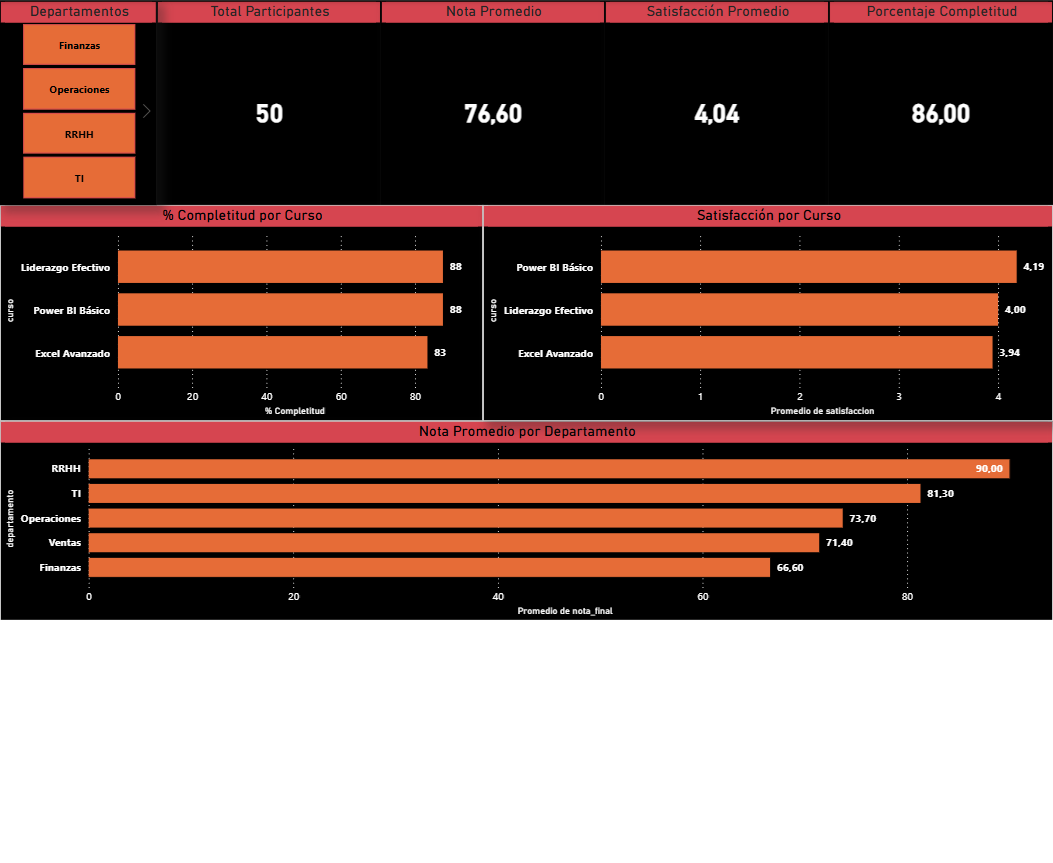

The dashboard page shown, as its layout file describes it:
{"tool":"powerbi","page":{"name":"Resumen","canvas":[1280,720],"ordinal":0},"visuals":[{"type":"card","title":"Total Participantes","fields":{"Values":["Count(capacitacion_sample.id_participante)"]},"box":[182.4,0,260.2,237],"z":0},{"type":"card","title":"Nota Promedio","fields":{"Values":["Avg(capacitacion_sample.nota_final)"]},"box":[442.5,0,260.2,237],"z":1000},{"type":"card","title":"Satisfacción Promedio","fields":{"Values":["Avg(capacitacion_sample.satisfaccion)"]},"box":[702.7,0,260.2,237],"z":2000},{"type":"card","title":"Porcentaje Completitud","fields":{"Values":["capacitacion_sample.% Completitud"]},"box":[962.9,0,260.2,237],"z":3000},{"type":"clusteredBarChart","title":"% Completitud por Curso","fields":{"Category":["capacitacion_sample.curso"],"Y":["capacitacion_sample.% Completitud"]},"box":[0,237,561,250.9],"z":4000},{"type":"clusteredBarChart","title":"Nota Promedio por Departamento","fields":{"Category":["capacitacion_sample.departamento"],"Y":["Avg(capacitacion_sample.nota_final)"]},"box":[0,487.8,1223.1,232.3],"z":5000},{"type":"clusteredBarChart","title":"Satisfacción por Curso","fields":{"Category":["capacitacion_sample.curso"],"Y":["Avg(capacitacion_sample.satisfaccion)"]},"box":[561,237,662.1,250.9],"z":6000},{"type":"slicer","title":"Departamentos","fields":{"Values":["capacitacion_sample.departamento"]},"box":[0,0,182.4,237],"z":7000}]}

Visuals, with their boxes on the page's 1280x720 design canvas (x1, y1, x2, y2). These are canvas units, not pixel positions in the 1053x863 screenshot, which may show the page scaled, cropped or inside an application window:
"Total Participantes" card: {"x1": 182, "y1": 0, "x2": 443, "y2": 237}
"Nota Promedio" card: {"x1": 442, "y1": 0, "x2": 703, "y2": 237}
"Satisfacción Promedio" card: {"x1": 703, "y1": 0, "x2": 963, "y2": 237}
"Porcentaje Completitud" card: {"x1": 963, "y1": 0, "x2": 1223, "y2": 237}
"% Completitud por Curso" clusteredBarChart: {"x1": 0, "y1": 237, "x2": 561, "y2": 488}
"Nota Promedio por Departamento" clusteredBarChart: {"x1": 0, "y1": 488, "x2": 1223, "y2": 720}
"Satisfacción por Curso" clusteredBarChart: {"x1": 561, "y1": 237, "x2": 1223, "y2": 488}
"Departamentos" slicer: {"x1": 0, "y1": 0, "x2": 182, "y2": 237}
